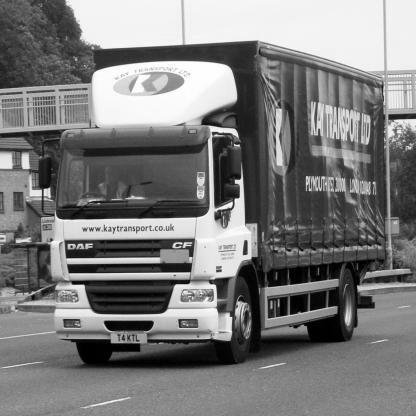truck: (37, 36, 396, 367)
